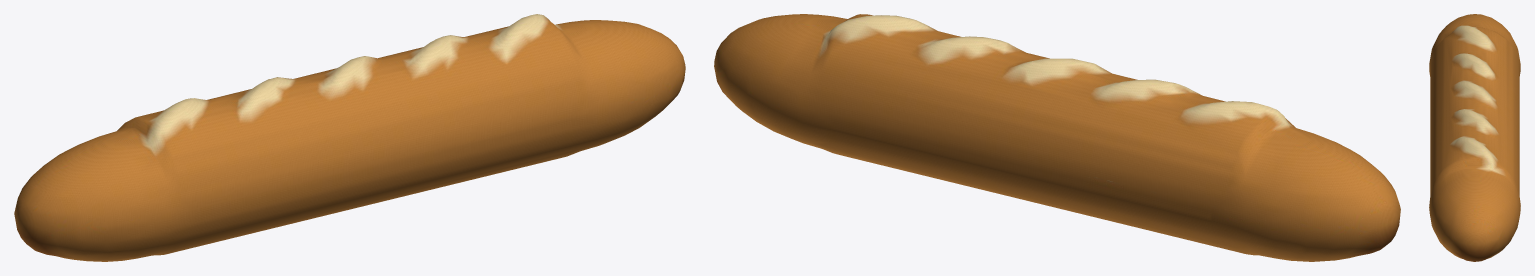
File: tm-banh-mi.glb
3 renders of one model, left to right at view 1: azimuth 30°, elevation 25°; view 2: azimuth 150°, elevation 25°; view 3: azimuth 270°, elevation 25°, orthographic. The views are drawn at different scales.
Visible parts, largest first — view 1: tm-banh-mi; view 2: tm-banh-mi; view 3: tm-banh-mi.
Boxes of the visible parts, x1,y1,x2,y2 form: tm-banh-mi: (14,14,685,261); tm-banh-mi: (714,14,1400,261); tm-banh-mi: (1429,14,1520,261).
Size of the model in its own units: 0.36 by 0.0715 by 0.0649.
1 material, 1 textured.
